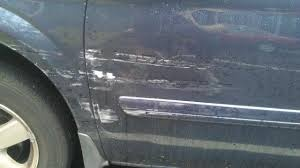Scratch: (75, 96, 300, 137), (46, 65, 231, 97), (77, 48, 219, 75), (1, 8, 70, 63)
